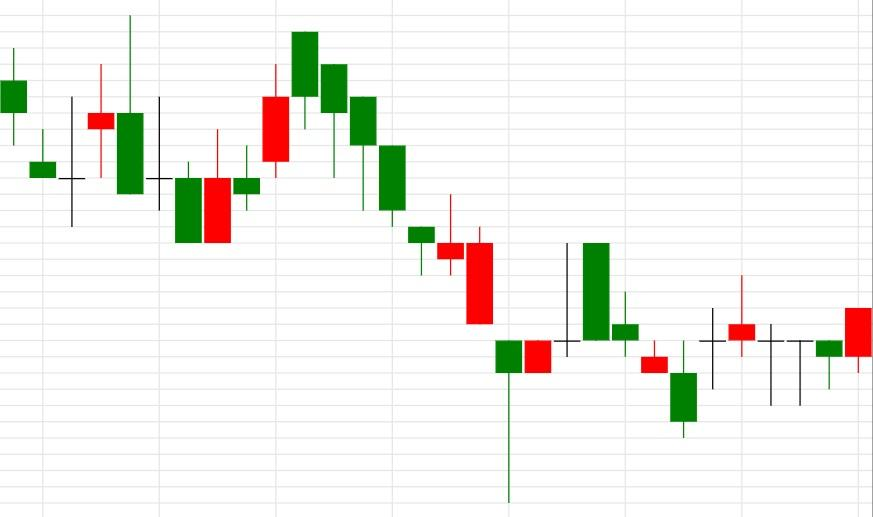bullish_engulfing_rise: (117, 15, 232, 245)
hammer_rise: (291, 31, 523, 504)
